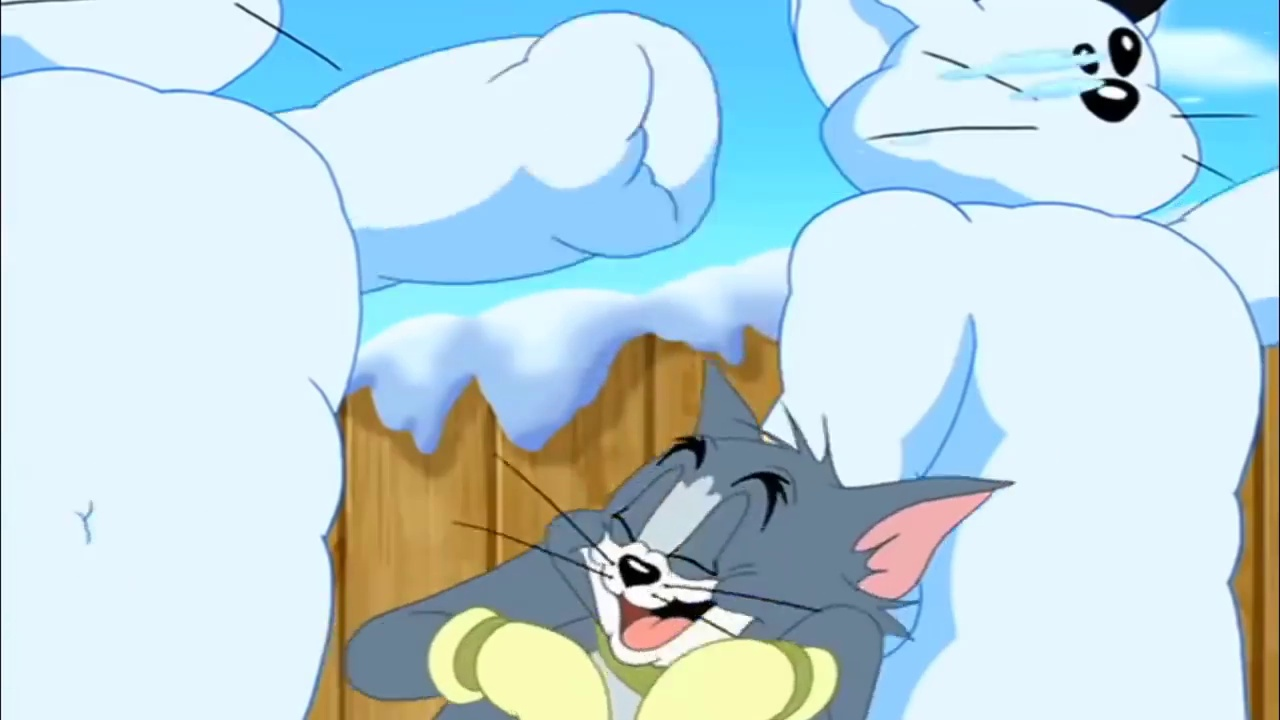face: (573, 436, 791, 666)
